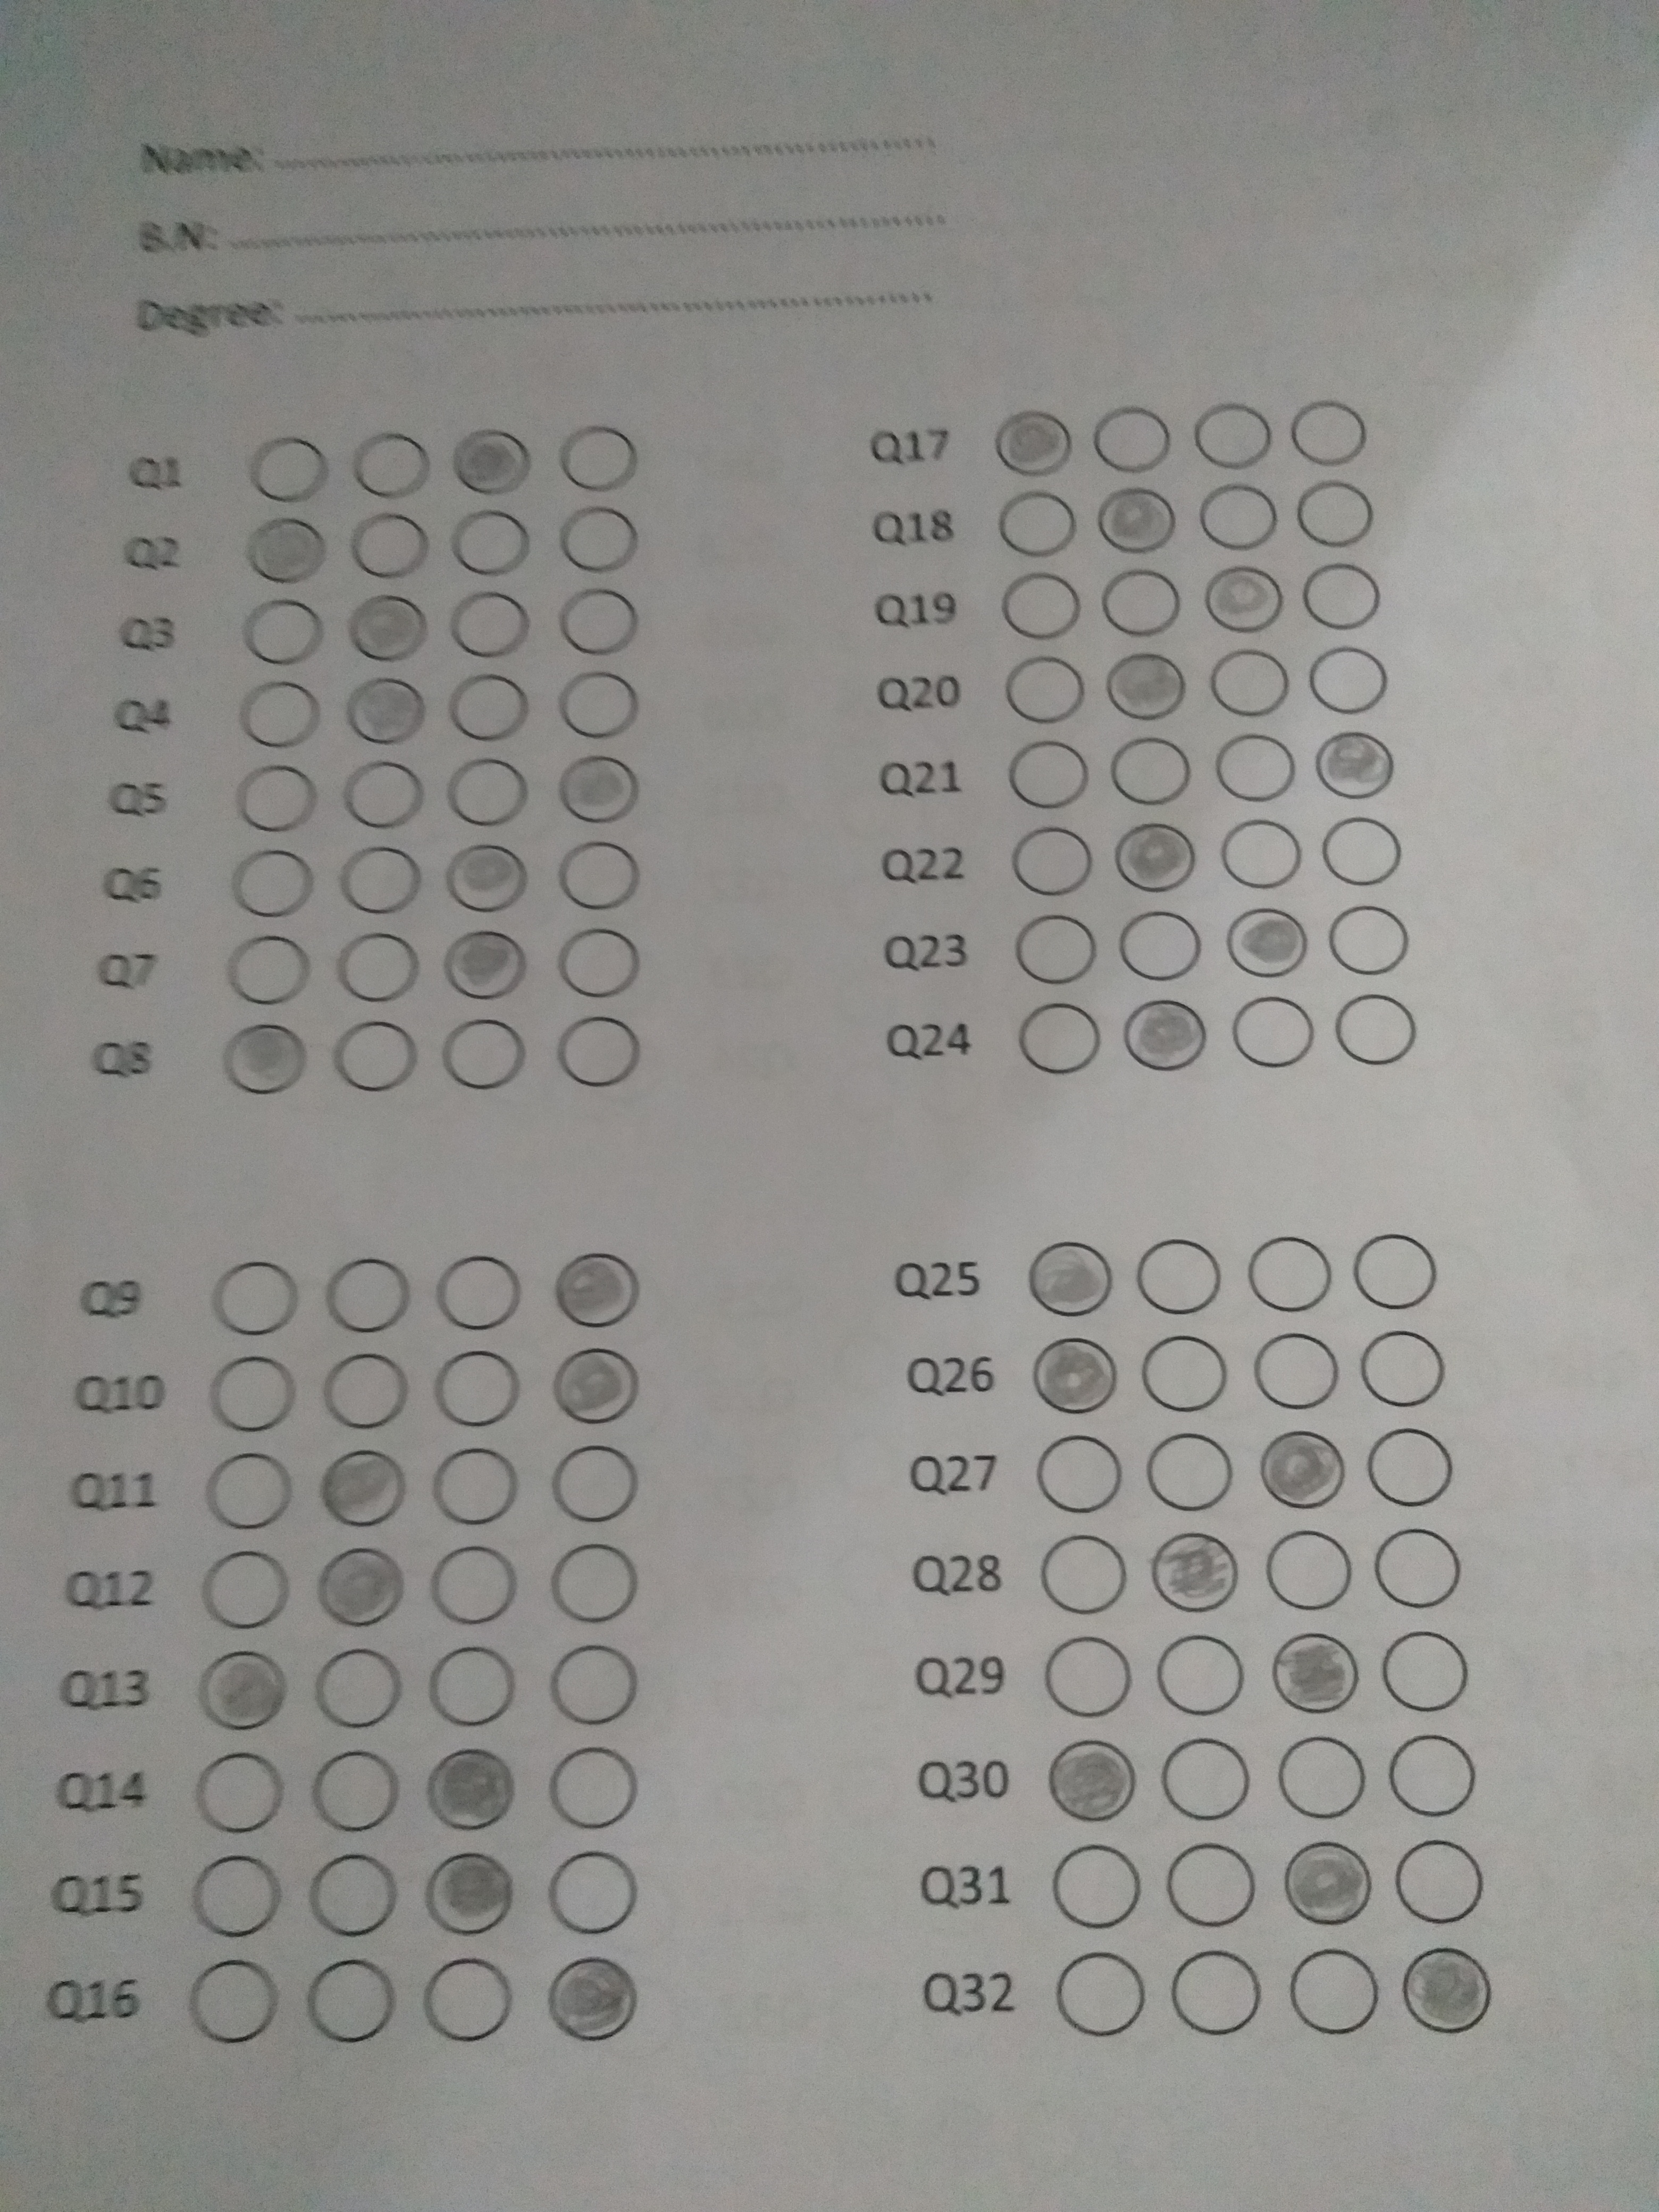not-c: (185, 1956, 288, 2050), (301, 1850, 404, 1944), (185, 1749, 288, 1843), (197, 1446, 298, 1540), (301, 1959, 404, 2052), (420, 1956, 523, 2048), (190, 1848, 293, 1940), (545, 1846, 648, 1939), (540, 1745, 643, 1838), (310, 1747, 413, 1839), (307, 1639, 410, 1731), (420, 1641, 523, 1733), (542, 1644, 645, 1737), (538, 1540, 641, 1632), (420, 1540, 523, 1632), (199, 1541, 301, 1634), (427, 1435, 530, 1527), (544, 1437, 647, 1529), (430, 1247, 533, 1339), (314, 1249, 416, 1341), (317, 1338, 420, 1430), (206, 1341, 308, 1433), (206, 1251, 308, 1343), (423, 1343, 525, 1435), (1162, 1735, 1253, 1822), (1131, 1233, 1220, 1320), (1248, 1231, 1337, 1318), (1141, 1331, 1230, 1418), (1363, 1425, 1452, 1512), (1375, 1521, 1464, 1608), (1263, 1526, 1352, 1613), (1040, 1635, 1129, 1723), (1279, 1735, 1368, 1822), (1396, 1838, 1485, 1925), (1056, 1952, 1145, 2040), (1356, 1325, 1446, 1411), (1253, 1329, 1344, 1414), (1035, 1430, 1124, 1515), (1147, 1430, 1236, 1515), (1040, 1526, 1129, 1611), (1155, 1634, 1244, 1719), (1382, 1629, 1471, 1714), (1389, 1731, 1478, 1817), (1053, 1843, 1141, 1928), (1166, 1843, 1255, 1928), (1291, 1949, 1380, 2034), (1171, 1951, 1260, 2036), (558, 420, 645, 496), (335, 843, 422, 920), (1303, 559, 1391, 636), (1354, 1235, 1441, 1312), (244, 428, 331, 503), (349, 427, 436, 502), (446, 509, 533, 583), (242, 592, 329, 667), (237, 672, 324, 747), (443, 589, 530, 664), (556, 665, 643, 740), (335, 756, 422, 831), (234, 848, 321, 923), (558, 838, 645, 913), (558, 925, 645, 1000), (227, 932, 314, 1007), (329, 1021, 416, 1096), (439, 1015, 526, 1090), (1018, 1000, 1105, 1075), (1232, 995, 1319, 1069), (1323, 902, 1410, 977), (1115, 907, 1202, 982), (1011, 909, 1098, 984), (1009, 824, 1096, 899), (1211, 728, 1298, 803), (1004, 740, 1091, 815), (1004, 651, 1091, 726), (1096, 564, 1183, 639), (1204, 644, 1291, 719), (1195, 481, 1283, 556), (1093, 401, 1180, 475), (1190, 394, 1277, 469), (1286, 394, 1373, 469), (1331, 993, 1419, 1068), (559, 500, 645, 575), (347, 510, 432, 585), (552, 582, 638, 657), (446, 665, 532, 740), (446, 751, 532, 826), (235, 759, 321, 834), (335, 932, 420, 1007), (559, 1014, 645, 1089), (1333, 993, 1419, 1068), (1319, 817, 1405, 892), (1216, 819, 1302, 894), (1107, 732, 1192, 806), (1002, 571, 1087, 646), (1307, 644, 1392, 719), (1297, 475, 1382, 550), (999, 486, 1084, 561)
taken-c: (1042, 1735, 1145, 1829), (1276, 1836, 1378, 1930), (1145, 1527, 1248, 1620), (1396, 1944, 1499, 2036), (310, 1541, 413, 1634), (416, 1743, 519, 1836), (418, 1850, 521, 1942), (186, 1642, 289, 1735), (1265, 1625, 1366, 1717), (312, 1439, 413, 1531), (544, 1949, 645, 2041), (549, 1343, 645, 1432), (1253, 1426, 1351, 1514), (1030, 1332, 1127, 1418), (1023, 1235, 1114, 1320), (1119, 998, 1216, 1076), (551, 1245, 641, 1329), (216, 1019, 312, 1097), (439, 840, 535, 918), (551, 747, 647, 826), (1222, 904, 1316, 982), (990, 402, 1079, 484), (1202, 557, 1290, 639), (1103, 644, 1190, 726), (340, 669, 429, 749), (1114, 819, 1201, 899), (343, 585, 430, 665), (1091, 479, 1178, 559), (1314, 723, 1401, 803), (443, 925, 532, 1003), (446, 423, 533, 498), (246, 514, 331, 587)
